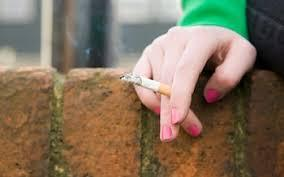smoke: (120, 73, 174, 97)
